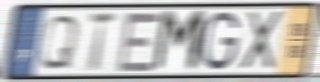E: (114, 10, 165, 74)
G: (199, 10, 241, 73)
M: (150, 9, 210, 75)
Q: (36, 13, 81, 72)
T: (86, 11, 120, 74)
X: (238, 9, 284, 72)
